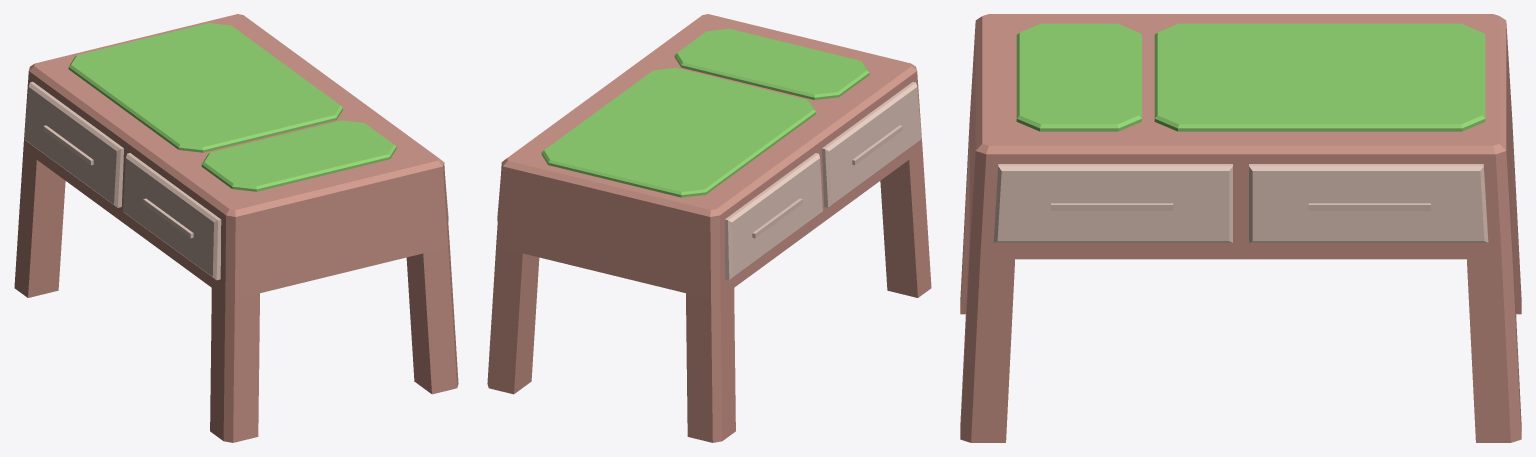
The model's file is SM_Table.fbx.
3 renders of one model, left to right at view 1: azimuth 30°, elevation 25°; view 2: azimuth 150°, elevation 25°; view 3: azimuth 270°, elevation 25°, orthographic. The views are drawn at different scales.
Parts seen in each view (by area): view 1: SM_Table; view 2: SM_Table; view 3: SM_Table.
Boxes of the visible parts, x1,y1,x2,y2 form: SM_Table: (14, 14, 458, 442); SM_Table: (487, 14, 931, 442); SM_Table: (960, 14, 1521, 442).
Bounding box in the file's own units: 1.22 × 1.12 × 1.92.
